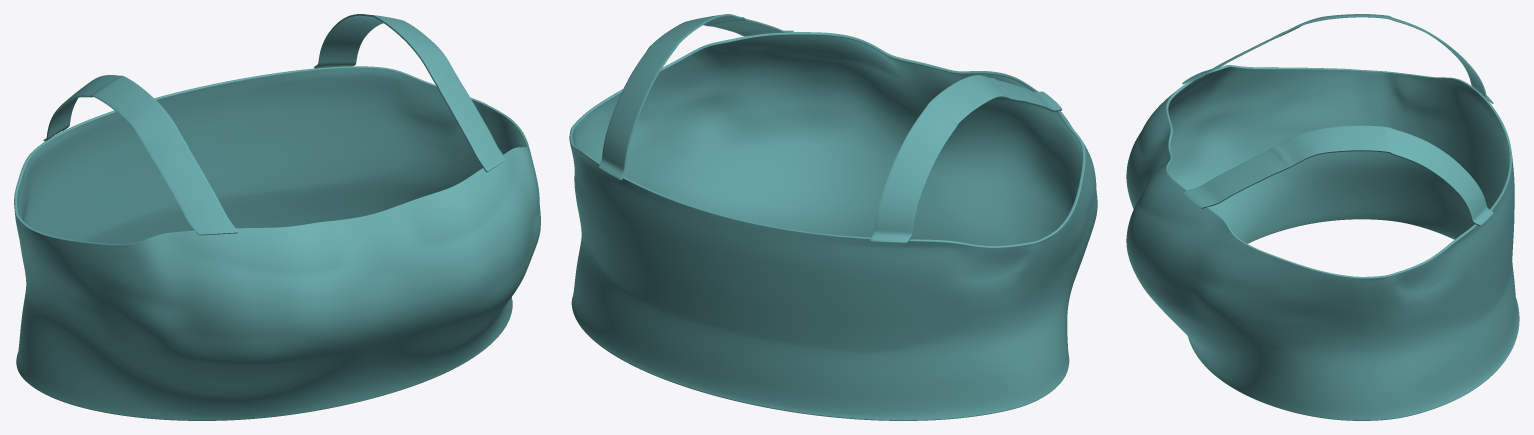
File: Feminine-tank-top.glb
The picture shows the model from 3 angles, left to right: view 1: azimuth 30°, elevation 25°; view 2: azimuth 150°, elevation 25°; view 3: azimuth 270°, elevation 25°; orthographic projection. The views are drawn at different scales.
Parts seen in each view (by area): view 1: Clothing / tank body, Clothing / Tank sewn strap201 -1, Clothing / Tank sewn strap201 1; view 2: Clothing / tank body, Clothing / Tank sewn strap201 -1, Clothing / Tank sewn strap201 1; view 3: Clothing / tank body, Clothing / Tank sewn strap201 1, Clothing / Tank sewn strap201 -1.
Part boxes in pixels (<box>): Clothing / tank body: <box>14,66,540,420</box>; Clothing / Tank sewn strap201 -1: <box>43,75,237,235</box>; Clothing / Tank sewn strap201 1: <box>314,14,505,172</box>; Clothing / tank body: <box>569,32,1097,420</box>; Clothing / Tank sewn strap201 -1: <box>870,75,1062,242</box>; Clothing / Tank sewn strap201 1: <box>598,14,793,180</box>; Clothing / tank body: <box>1126,65,1519,420</box>; Clothing / Tank sewn strap201 1: <box>1182,125,1493,225</box>; Clothing / Tank sewn strap201 -1: <box>1182,14,1493,103</box>.
Size of the model in its own units: 0.6211 by 0.3463 by 0.495.
